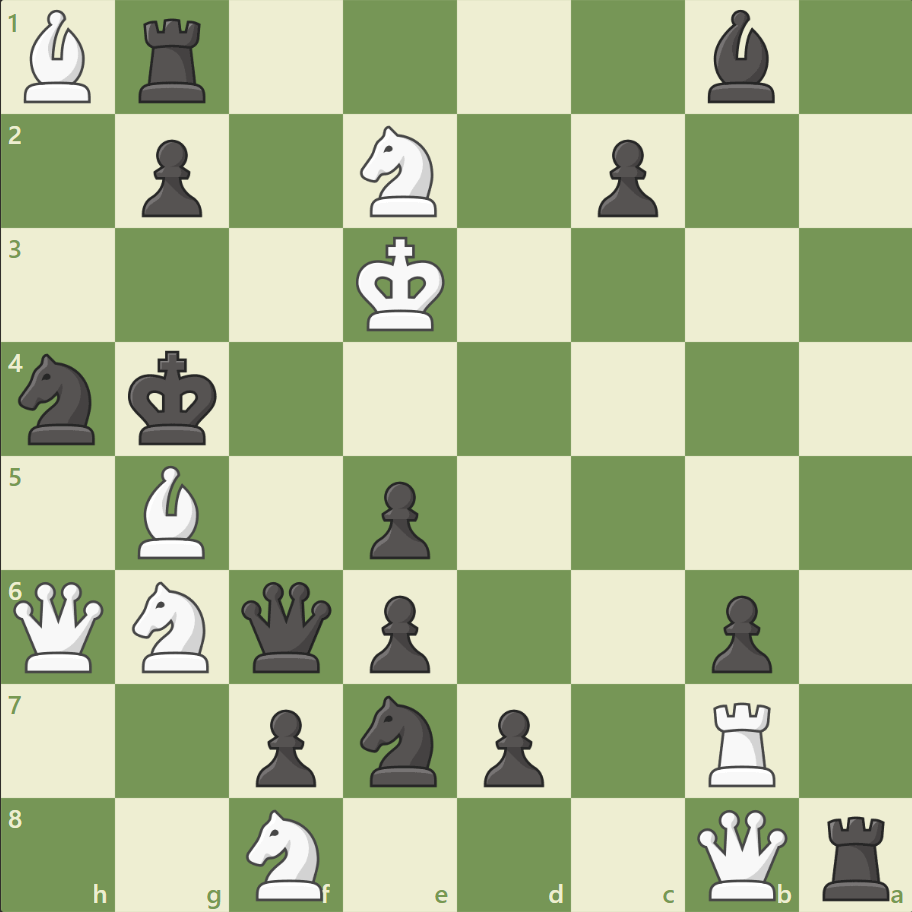B: (131, 460, 215, 563), (17, 6, 101, 109)
K: (351, 231, 451, 339)
N: (124, 575, 222, 677), (351, 121, 449, 223), (238, 802, 335, 904)
Q: (10, 576, 109, 676), (691, 804, 790, 903)
R: (700, 693, 783, 790)
b: (698, 6, 782, 109)
k: (124, 344, 224, 452)
n: (351, 688, 449, 791), (11, 348, 108, 450)
p: (474, 700, 549, 791), (247, 700, 322, 791), (701, 586, 776, 677), (133, 132, 208, 223), (361, 586, 435, 677), (361, 473, 435, 564), (588, 132, 662, 223)
q: (237, 576, 336, 676)
r: (814, 806, 897, 904), (133, 12, 215, 109)
